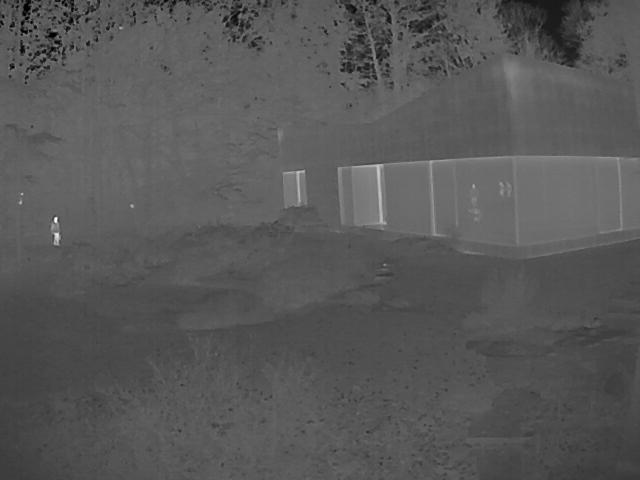person: (51, 215, 64, 245), (471, 181, 481, 206), (498, 181, 505, 200), (508, 181, 515, 197)
